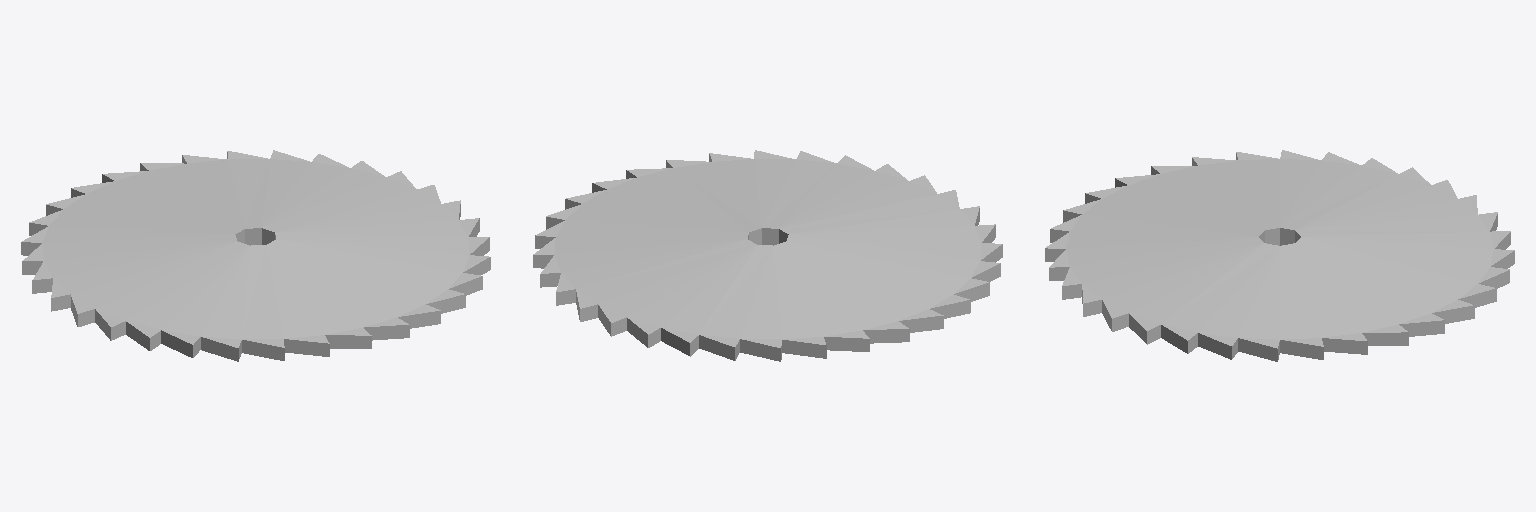
The model's file is Saw blade left.obj.
3 renders of one model, left to right at view 1: azimuth 30°, elevation 25°; view 2: azimuth 150°, elevation 25°; view 3: azimuth 270°, elevation 25°, orthographic.
Visible parts, largest first — view 1: Saw_blade_left_Circle; view 2: Saw_blade_left_Circle; view 3: Saw_blade_left_Circle.
Part boxes in pixels (x1,y1,x2,y2): Saw_blade_left_Circle: (21, 150, 490, 361); Saw_blade_left_Circle: (533, 150, 1002, 361); Saw_blade_left_Circle: (1045, 150, 1514, 361).
Size of the model in its own units: 2.65 by 0.2384 by 2.65.